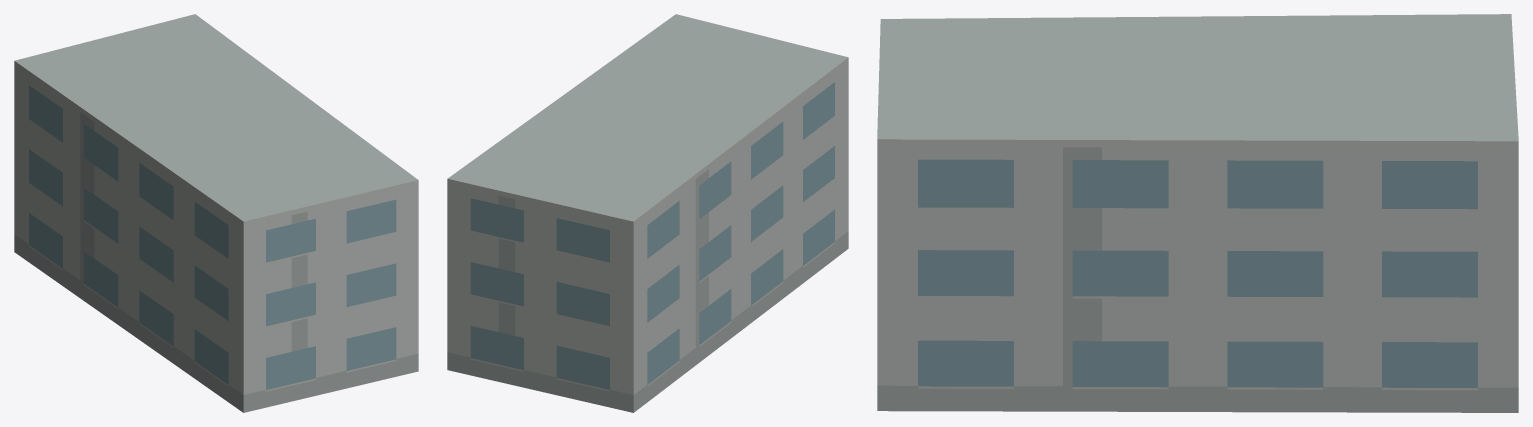
The model's file is survey-upis-32598980.glb.
3 renders of one model, left to right at view 1: azimuth 30°, elevation 25°; view 2: azimuth 150°, elevation 25°; view 3: azimuth 270°, elevation 25°, orthographic. The views are drawn at different scales.
Parts seen in each view (by area): view 1: survey-upis-32598980.tmp; view 2: survey-upis-32598980.tmp; view 3: survey-upis-32598980.tmp.
Boxes of the visible parts, <box> form: survey-upis-32598980.tmp: <box>14,14,418,412</box>; survey-upis-32598980.tmp: <box>447,14,848,412</box>; survey-upis-32598980.tmp: <box>877,14,1518,412</box>.
Bounding box in the file's own units: 9.2 × 9.15 × 19.6.
